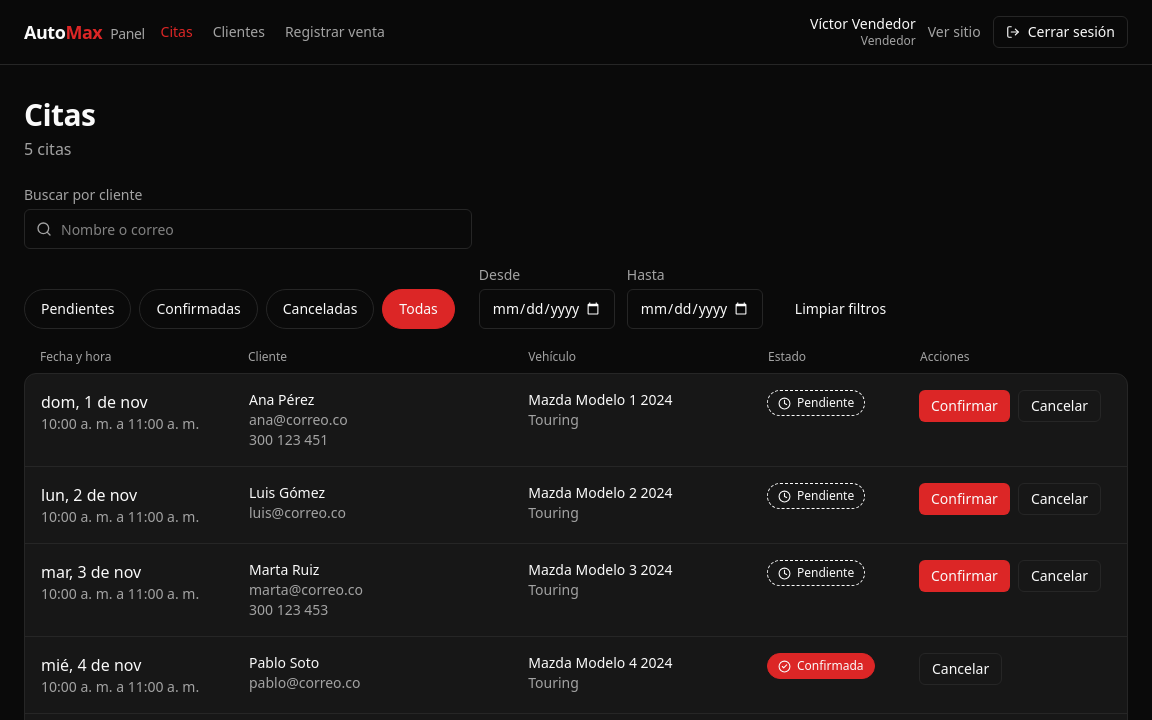
it: lista de citas › filtra por fechas (instantes de Bogotá, de principio a fin de día) y "Limpiar filtros" lo deshace
The image size is (1152, 720).
Type "2099-11-02" into the date field labelled "Desde". click: (547,309)
box: [479,289,615,329]
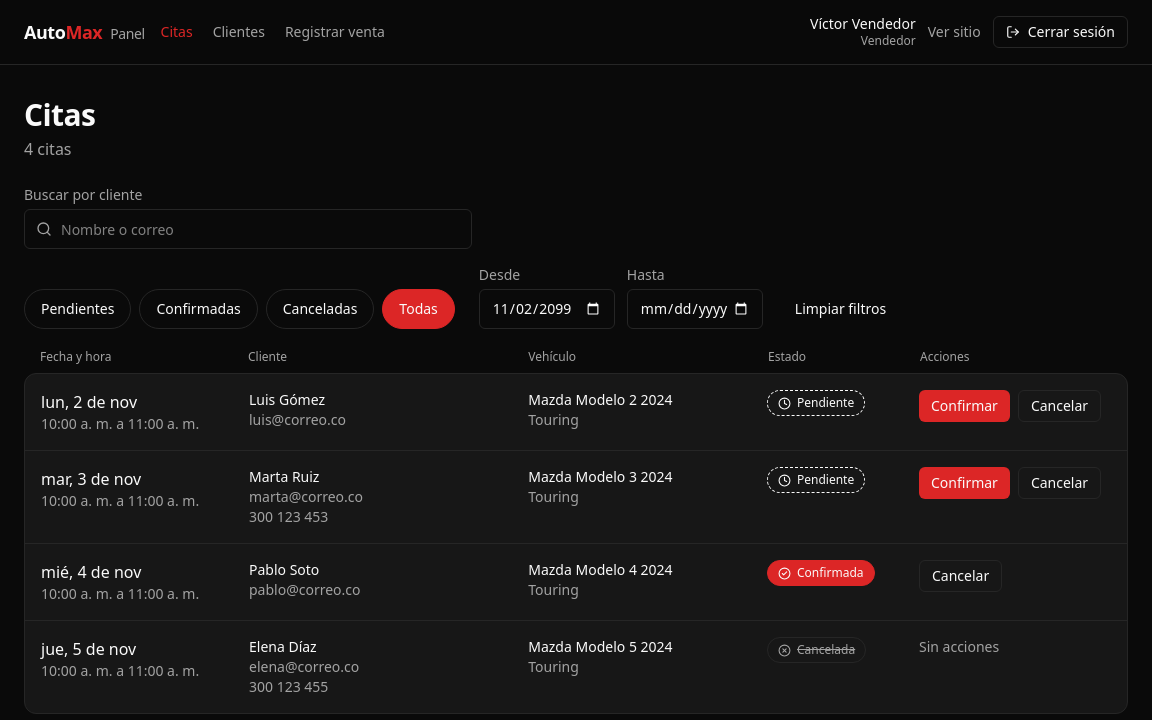
Type "2099-11-03" into the date field labelled "Hasta". click: (695,309)
box: [627,289,763,329]
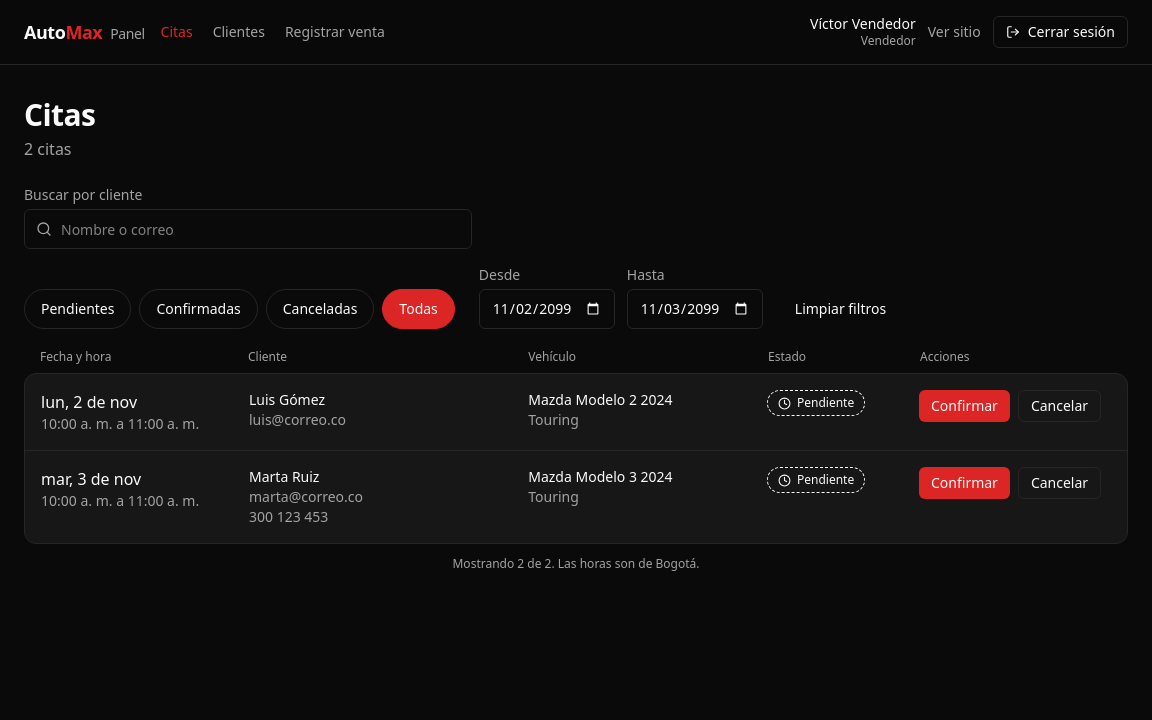
Click the button "Limpiar filtros". click: (840,309)
box: [775,289,906,329]
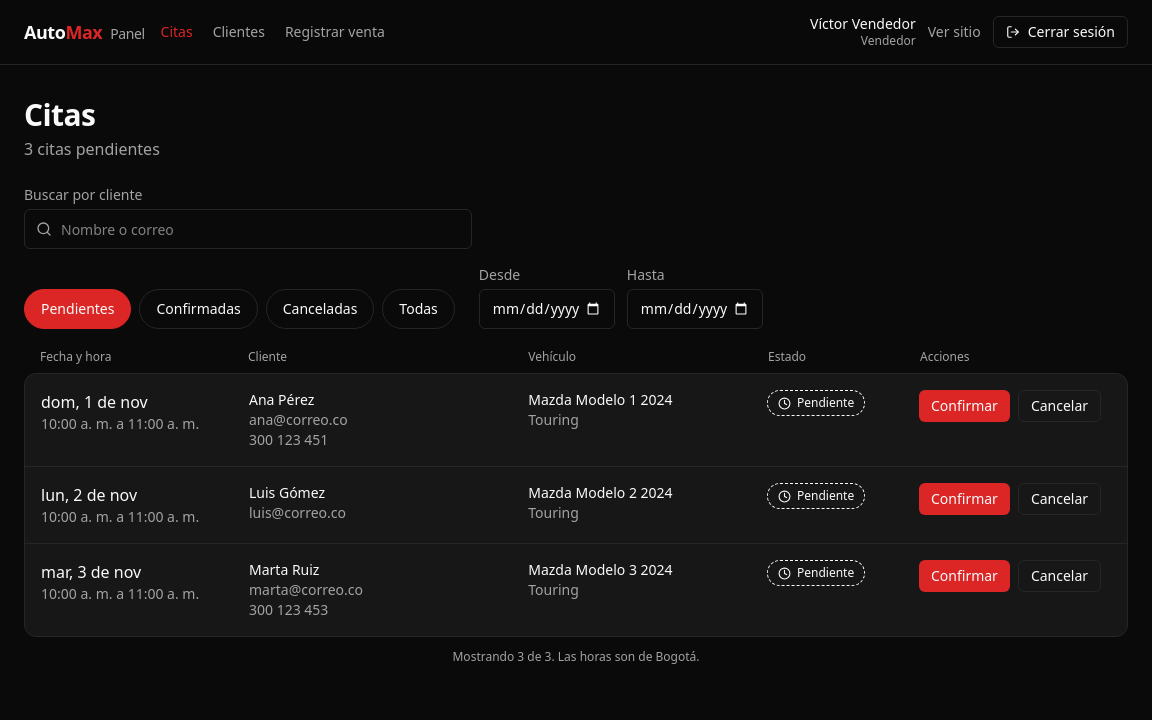
Result: the date field labelled "Desde" is empty at [479,289,615,329]
